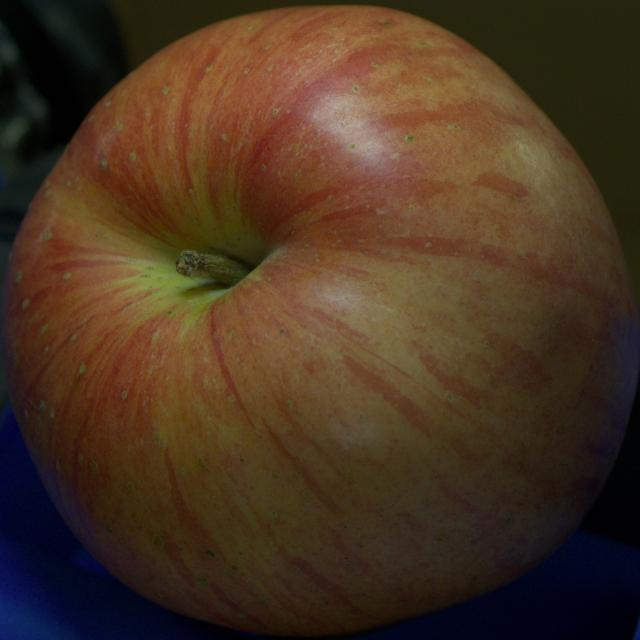apple: (0, 6, 639, 635)
